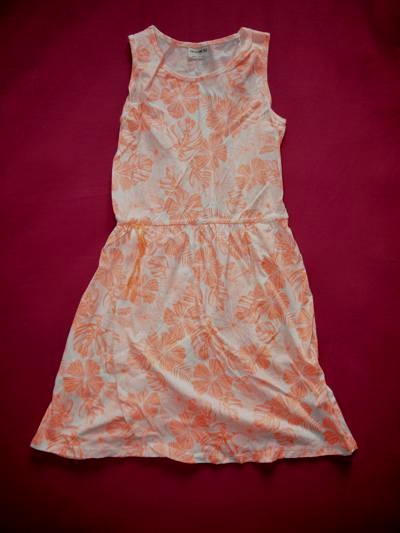Dress: (29, 21, 366, 470)
